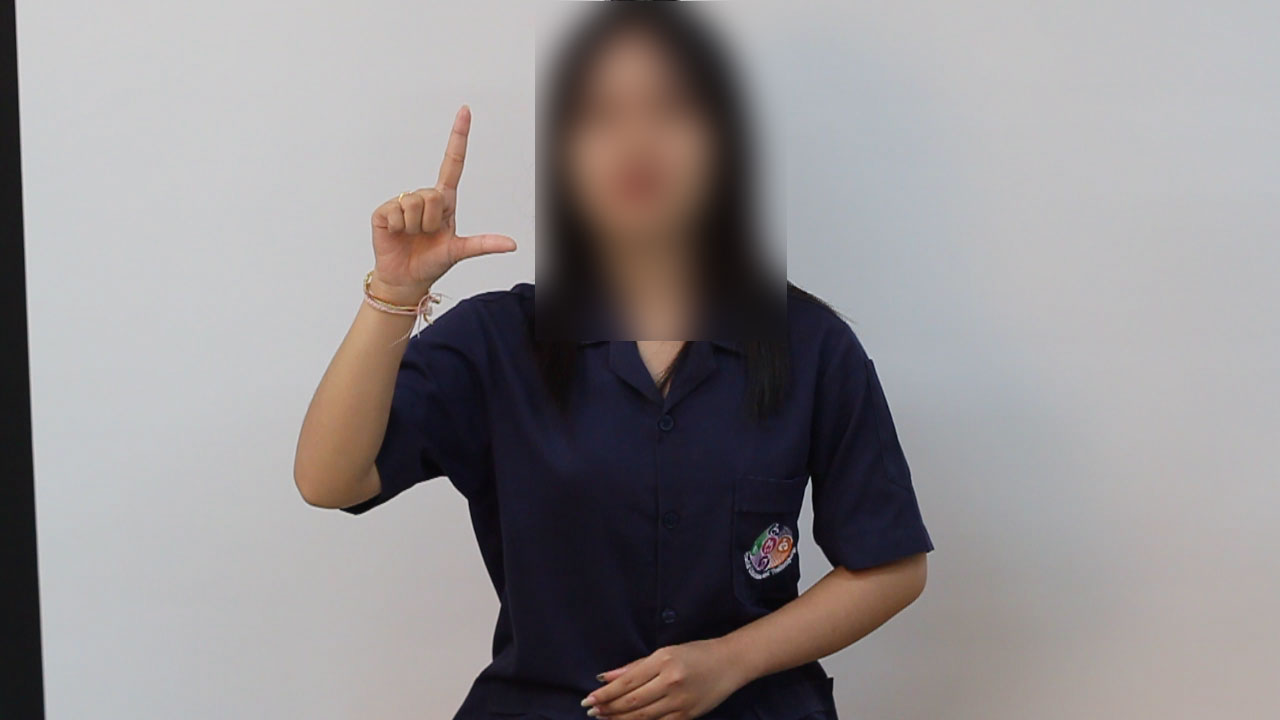lor: (282, 85, 569, 312)
